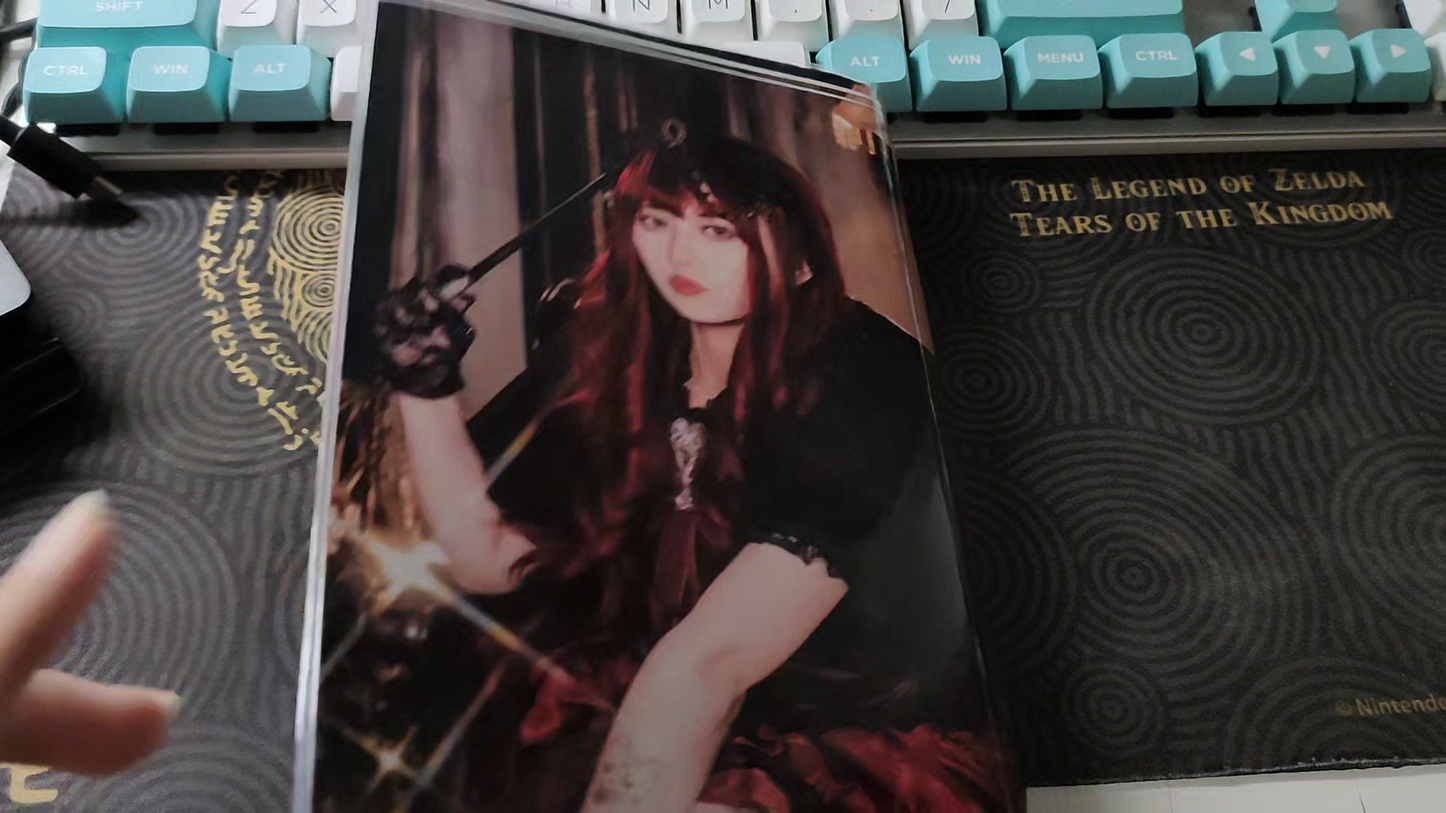Photo_book: (288, 0, 1027, 813)
